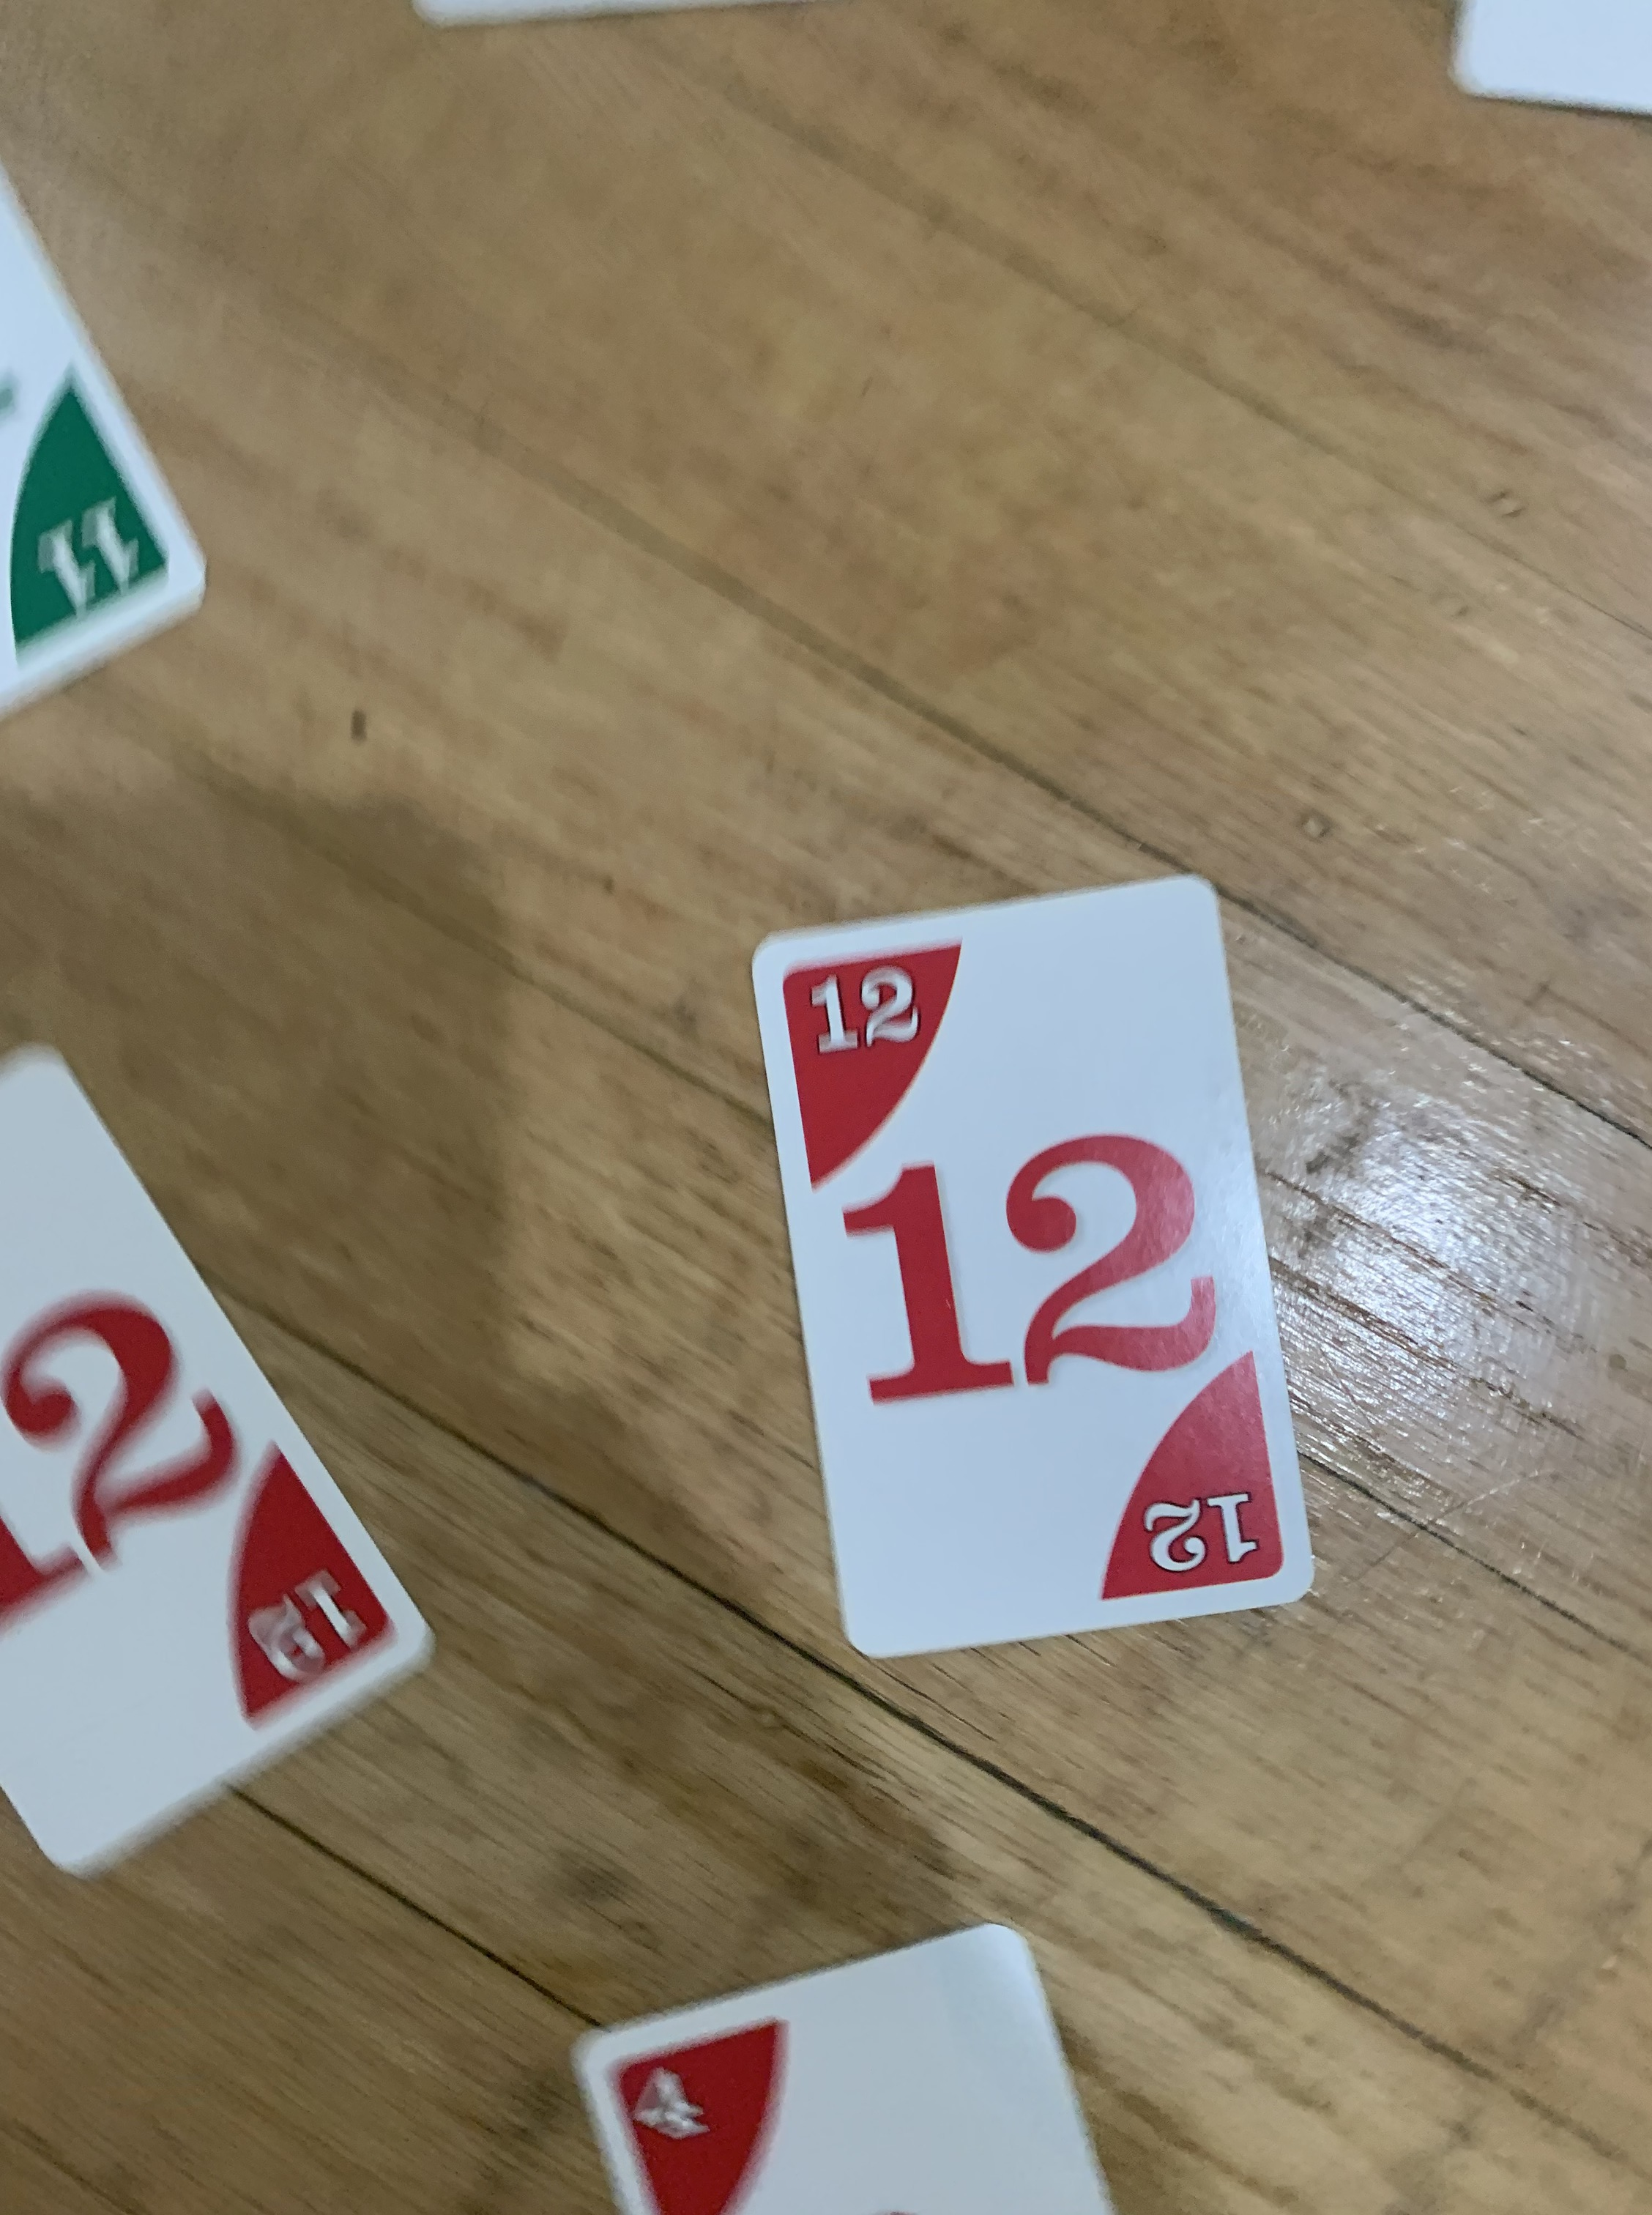twelve: (729, 838, 1327, 1680), (0, 995, 449, 1877)
